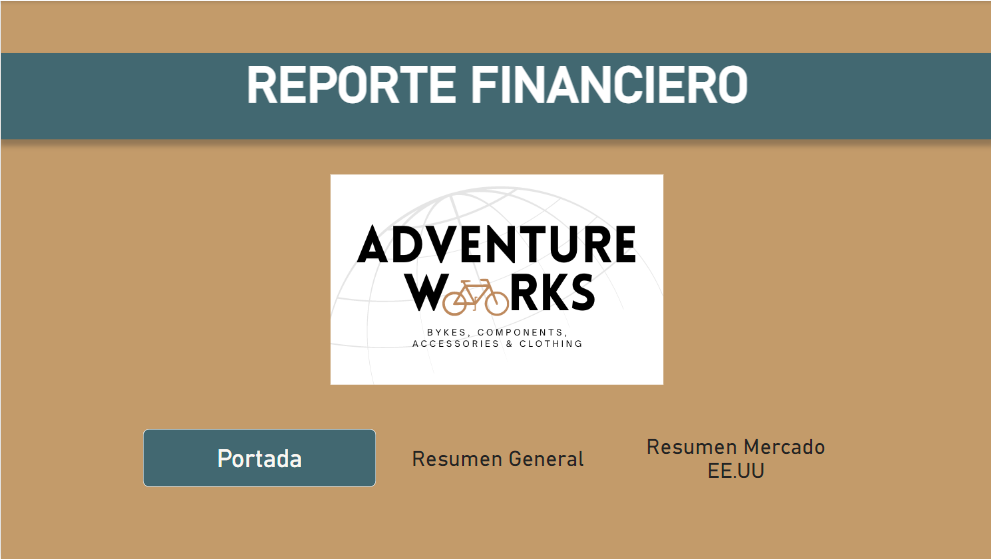

What the dashboard file says about the page in this screenshot:
{"tool":"powerbi","page":{"name":"Portada","canvas":[1920,1080],"ordinal":0},"visuals":[{"type":"textbox","box":[0,100,1920.8,166.7],"z":0},{"type":"image","box":[633.3,308.3,654.2,462.5],"z":1000},{"type":"pageNavigator","box":[275,829.2,1375,112.5],"z":2000}]}

Visuals, with their boxes in screenshot pixels (x1, y1, x2, y2), scaled from the page's 1920x1080 canvas onto the 991x559 screenshot:
textbox: (0, 52, 990, 138)
image: (327, 160, 665, 399)
pageNavigator: (142, 429, 852, 487)
